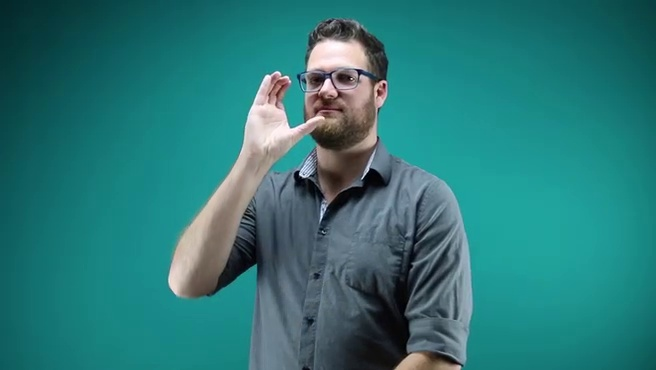drink: (241, 67, 327, 161)
